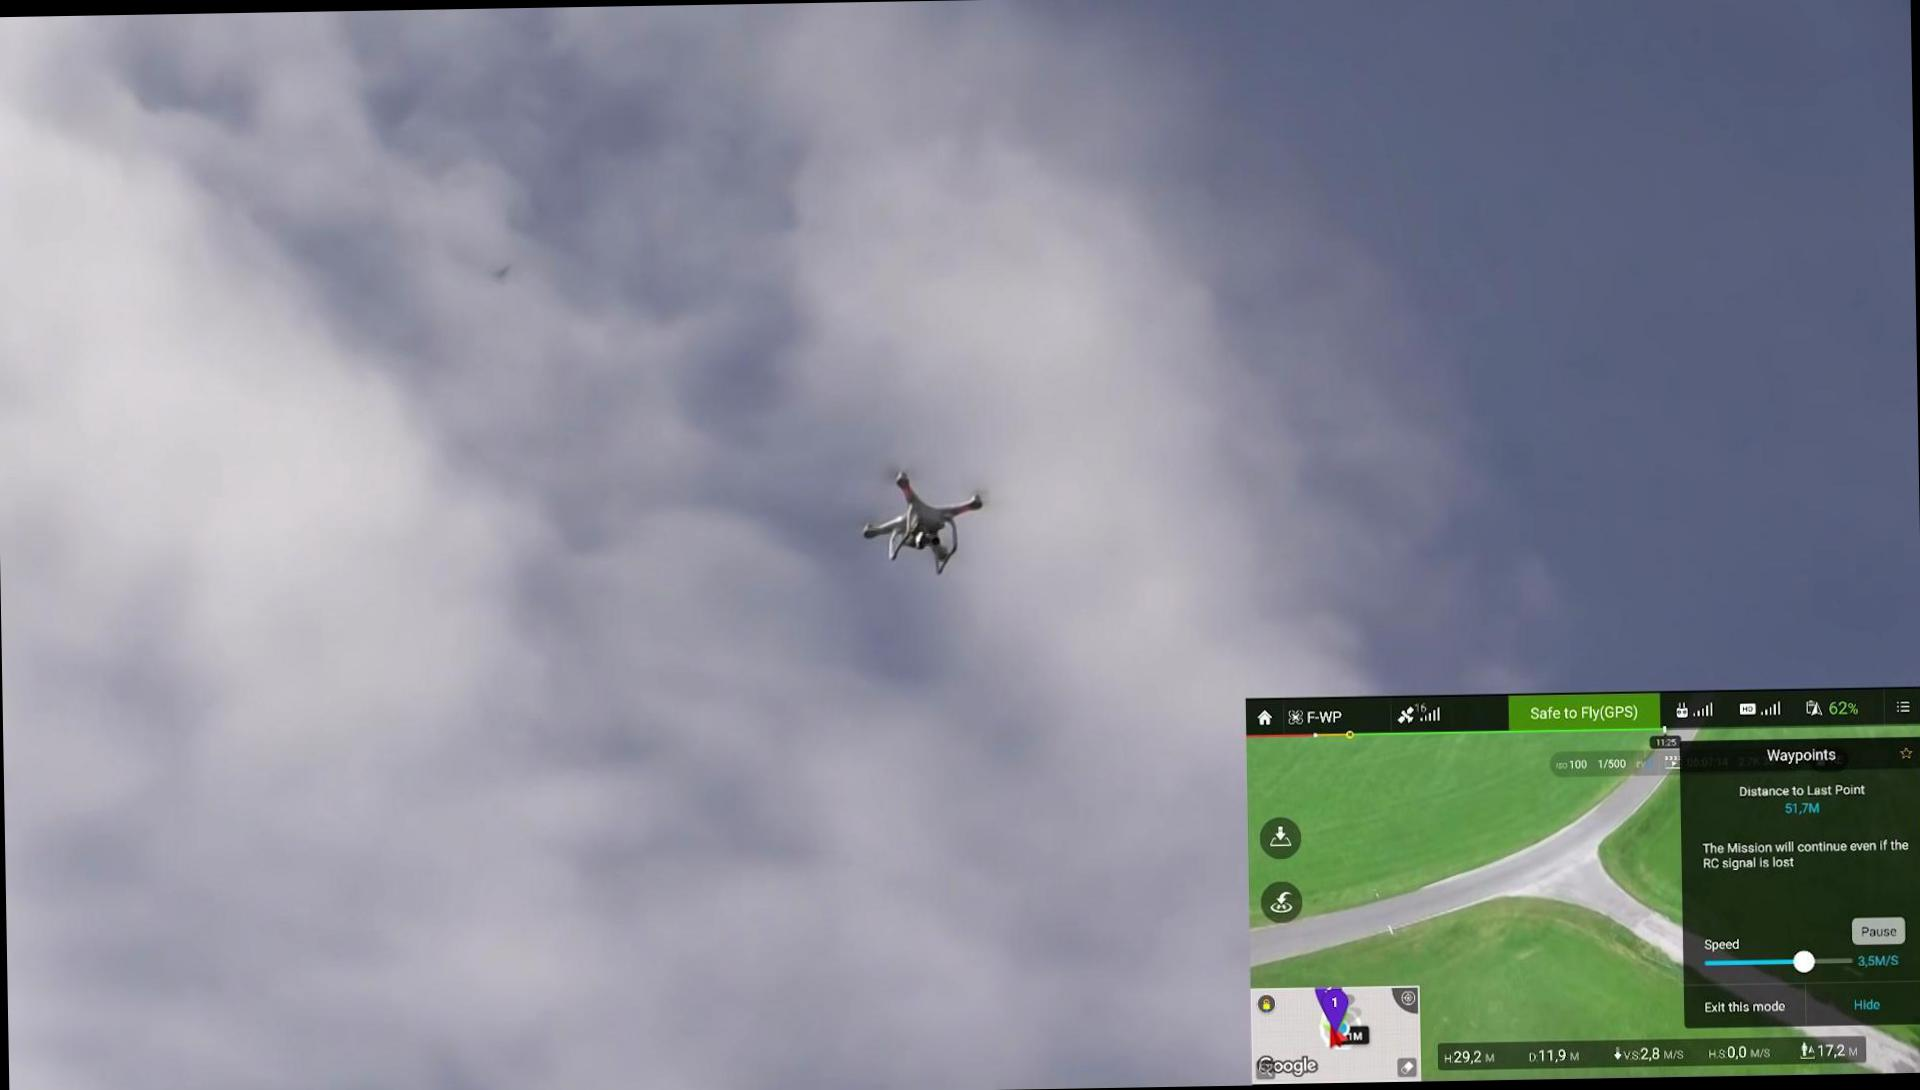drone: (848, 461, 992, 581)
